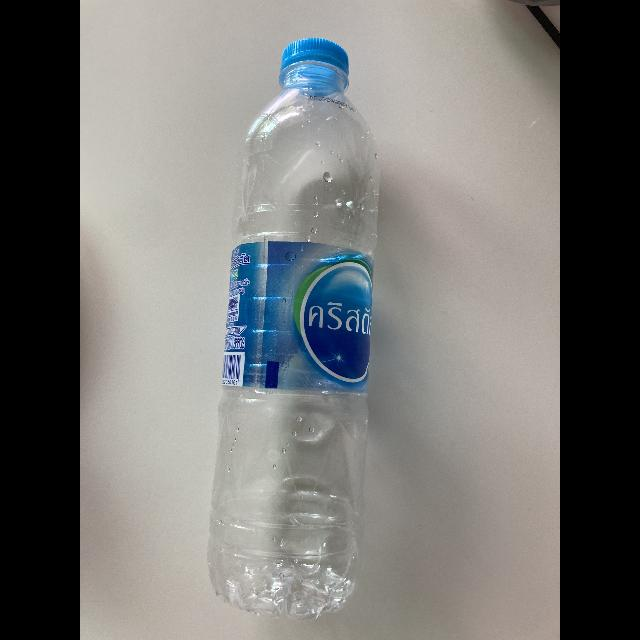plastic_bottle: (199, 34, 381, 624)
